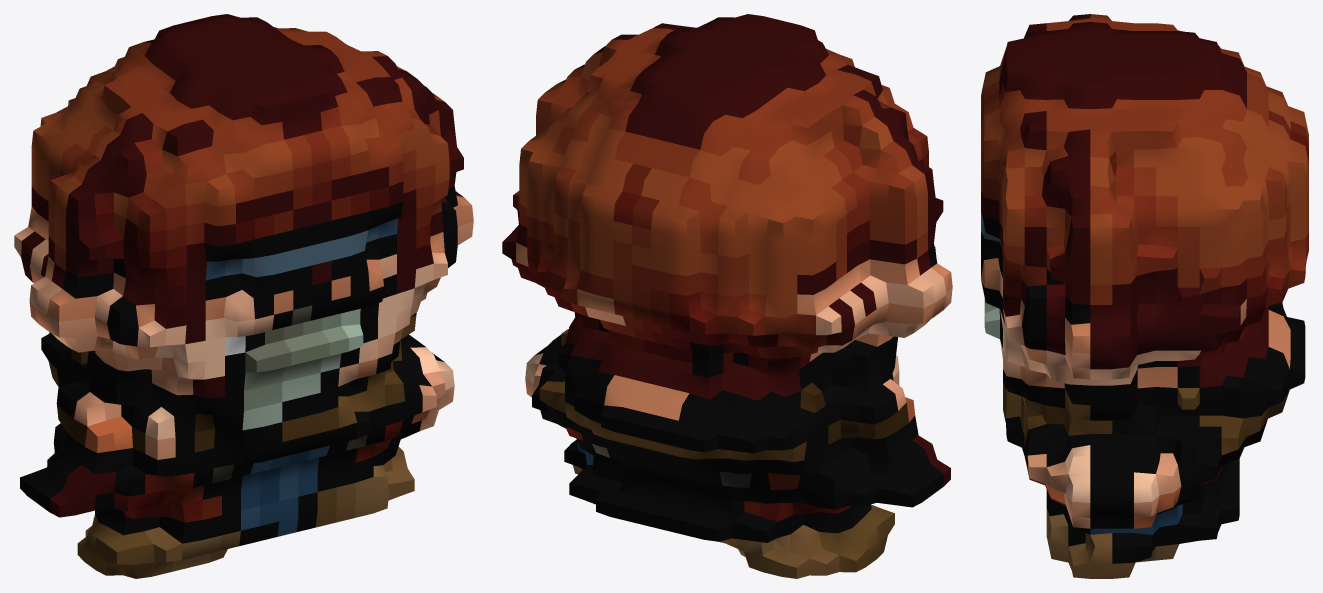
The model's file is Icon_005_03.obj.
The picture shows the model from 3 angles, left to right: view 1: azimuth 30°, elevation 25°; view 2: azimuth 150°, elevation 25°; view 3: azimuth 270°, elevation 25°; orthographic projection. The views are drawn at different scales.
Size of the model in its own units: 2.2 by 2.4 by 1.5.
Materials: 1 (1 with a texture image).
